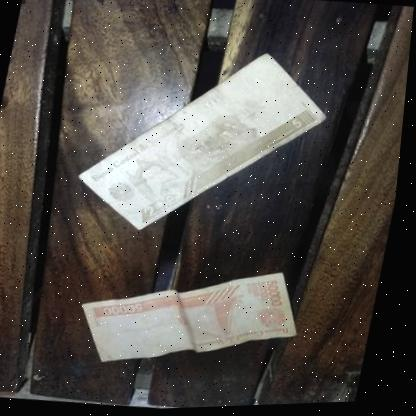five-back-vef: (69, 34, 341, 251)
